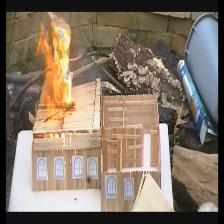fire: (36, 24, 73, 114)
